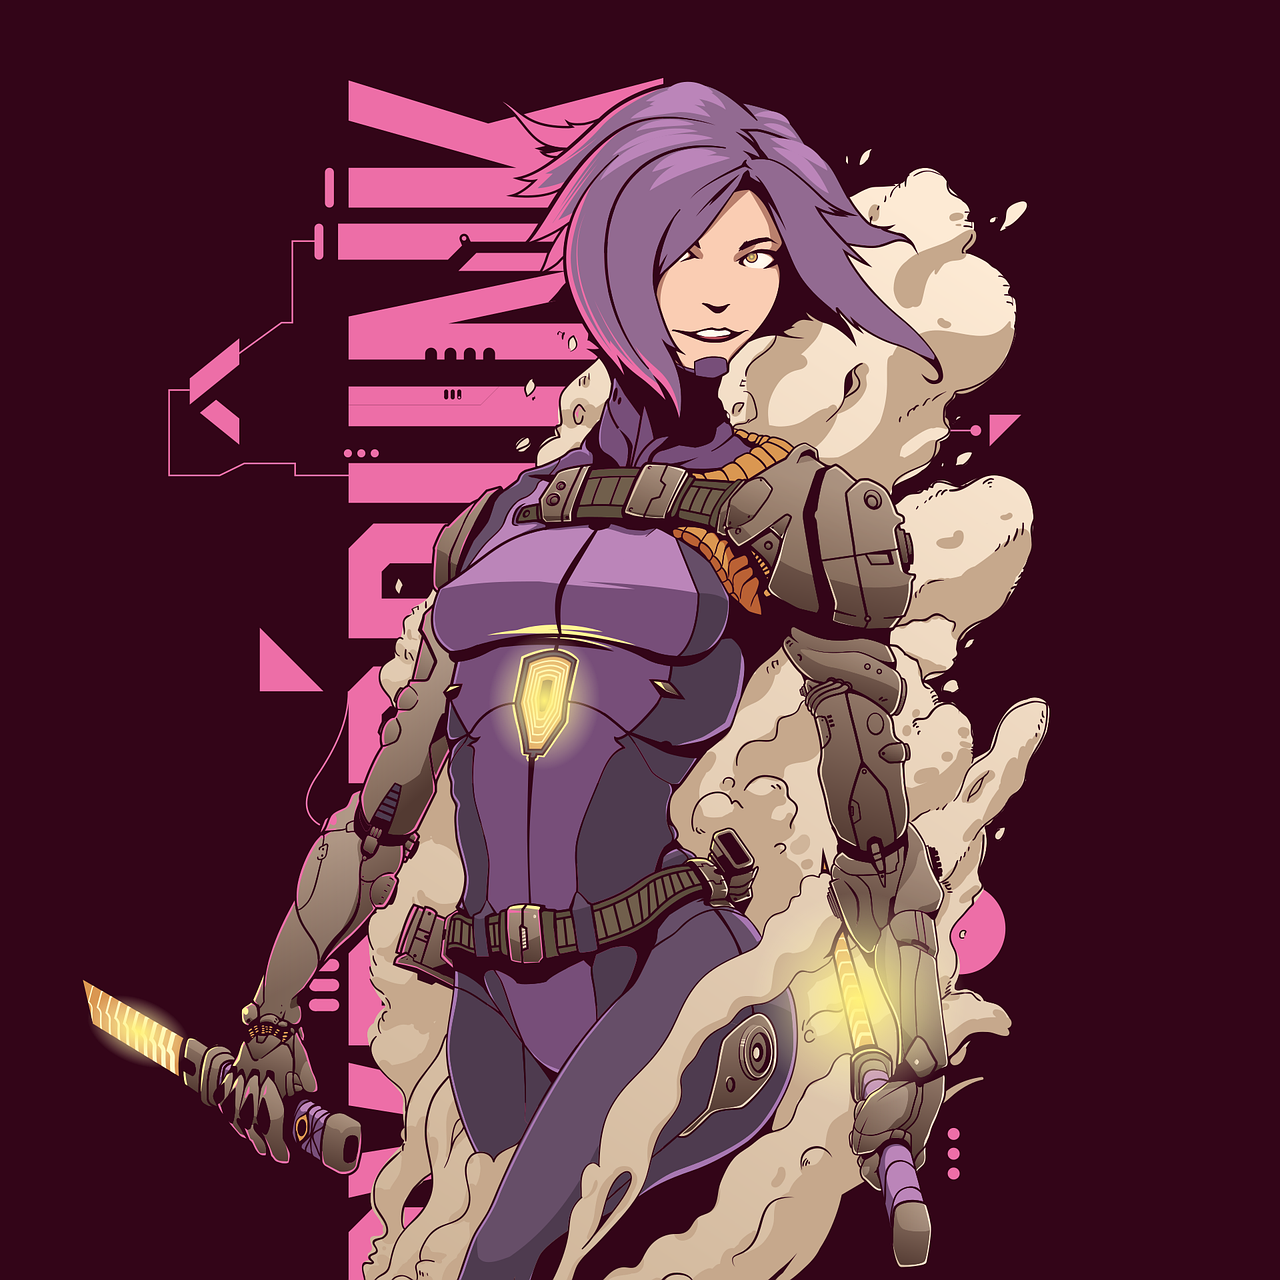knife: (72, 966, 375, 1180), (828, 927, 958, 1269)
